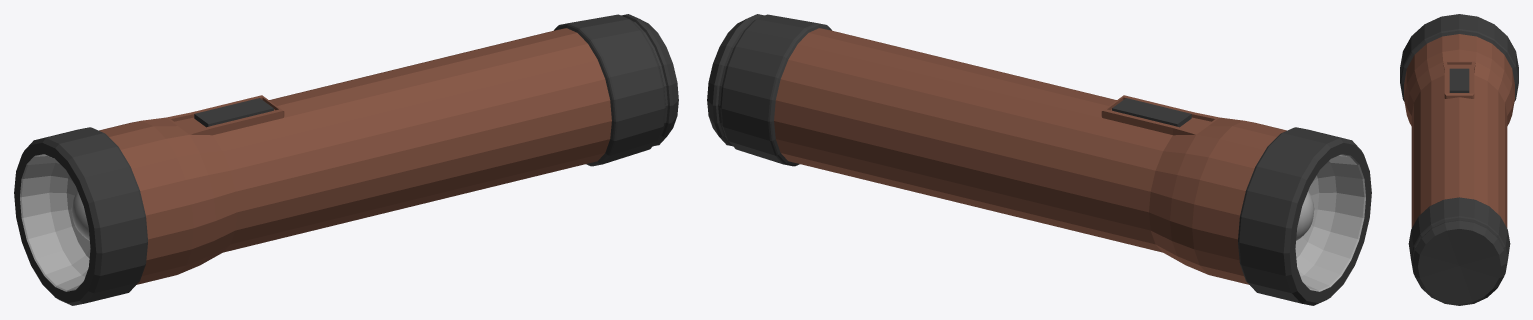
Rendered from Flashlight (1).fbx.
3 views of the same model, side by side, from view 1: azimuth 30°, elevation 25°; view 2: azimuth 150°, elevation 25°; view 3: azimuth 270°, elevation 25° (orthographic). The views are drawn at different scales.
Visible parts, largest first — view 1: group2_pasted__group1_pasted__polySurface8; view 2: group2_pasted__group1_pasted__polySurface8; view 3: group2_pasted__group1_pasted__polySurface8.
Boxes of the visible parts, x1,y1,x2,y2 form: group2_pasted__group1_pasted__polySurface8: [14, 14, 678, 305]; group2_pasted__group1_pasted__polySurface8: [707, 14, 1371, 305]; group2_pasted__group1_pasted__polySurface8: [1400, 14, 1518, 305].
Size of the model in its own units: 28.49 by 7.16 by 7.16.
